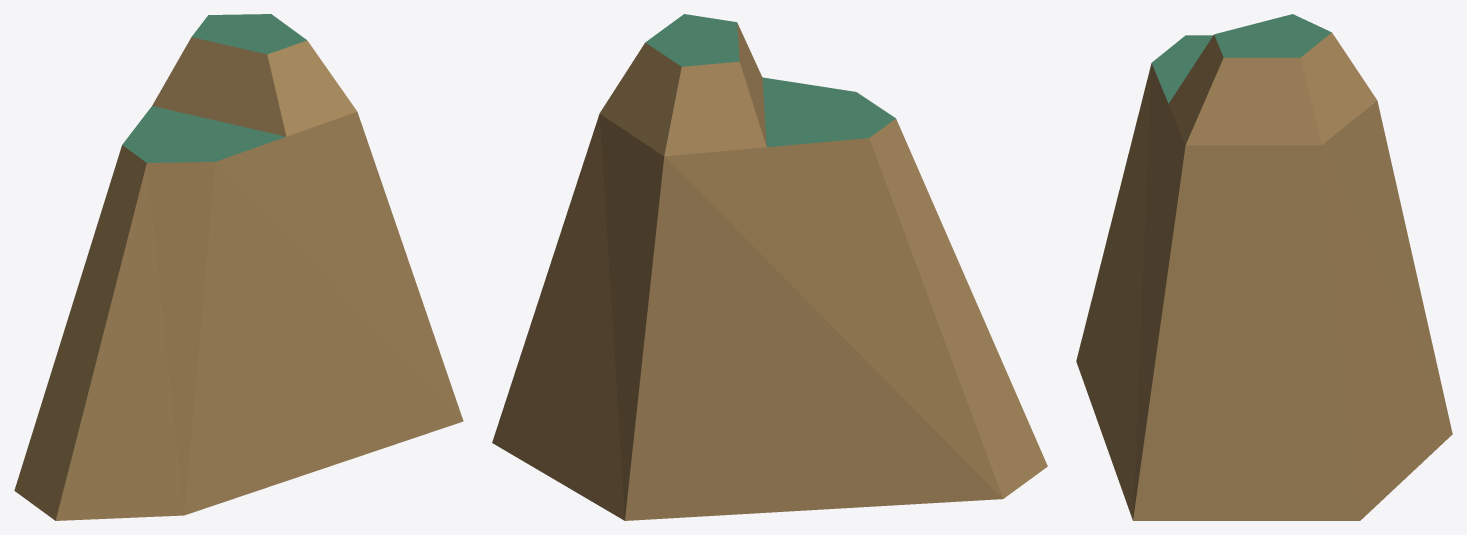
The model's file is Rock_Small_Mesa_Eroded_Moss_Grass_04.FBX.
The picture shows the model from 3 angles, left to right: view 1: azimuth 30°, elevation 25°; view 2: azimuth 150°, elevation 25°; view 3: azimuth 270°, elevation 25°; orthographic projection. The views are drawn at different scales.
Parts seen in each view (by area): view 1: Rock_Small_Mesa_Eroded_Moss_Grass_04; view 2: Rock_Small_Mesa_Eroded_Moss_Grass_04; view 3: Rock_Small_Mesa_Eroded_Moss_Grass_04.
Boxes of the visible parts, x1=… form: Rock_Small_Mesa_Eroded_Moss_Grass_04: x1=14, y1=14, x2=463, y2=520; Rock_Small_Mesa_Eroded_Moss_Grass_04: x1=492, y1=14, x2=1047, y2=520; Rock_Small_Mesa_Eroded_Moss_Grass_04: x1=1076, y1=14, x2=1452, y2=520.
Size of the model in its own units: 2406 by 2129 by 1799.
